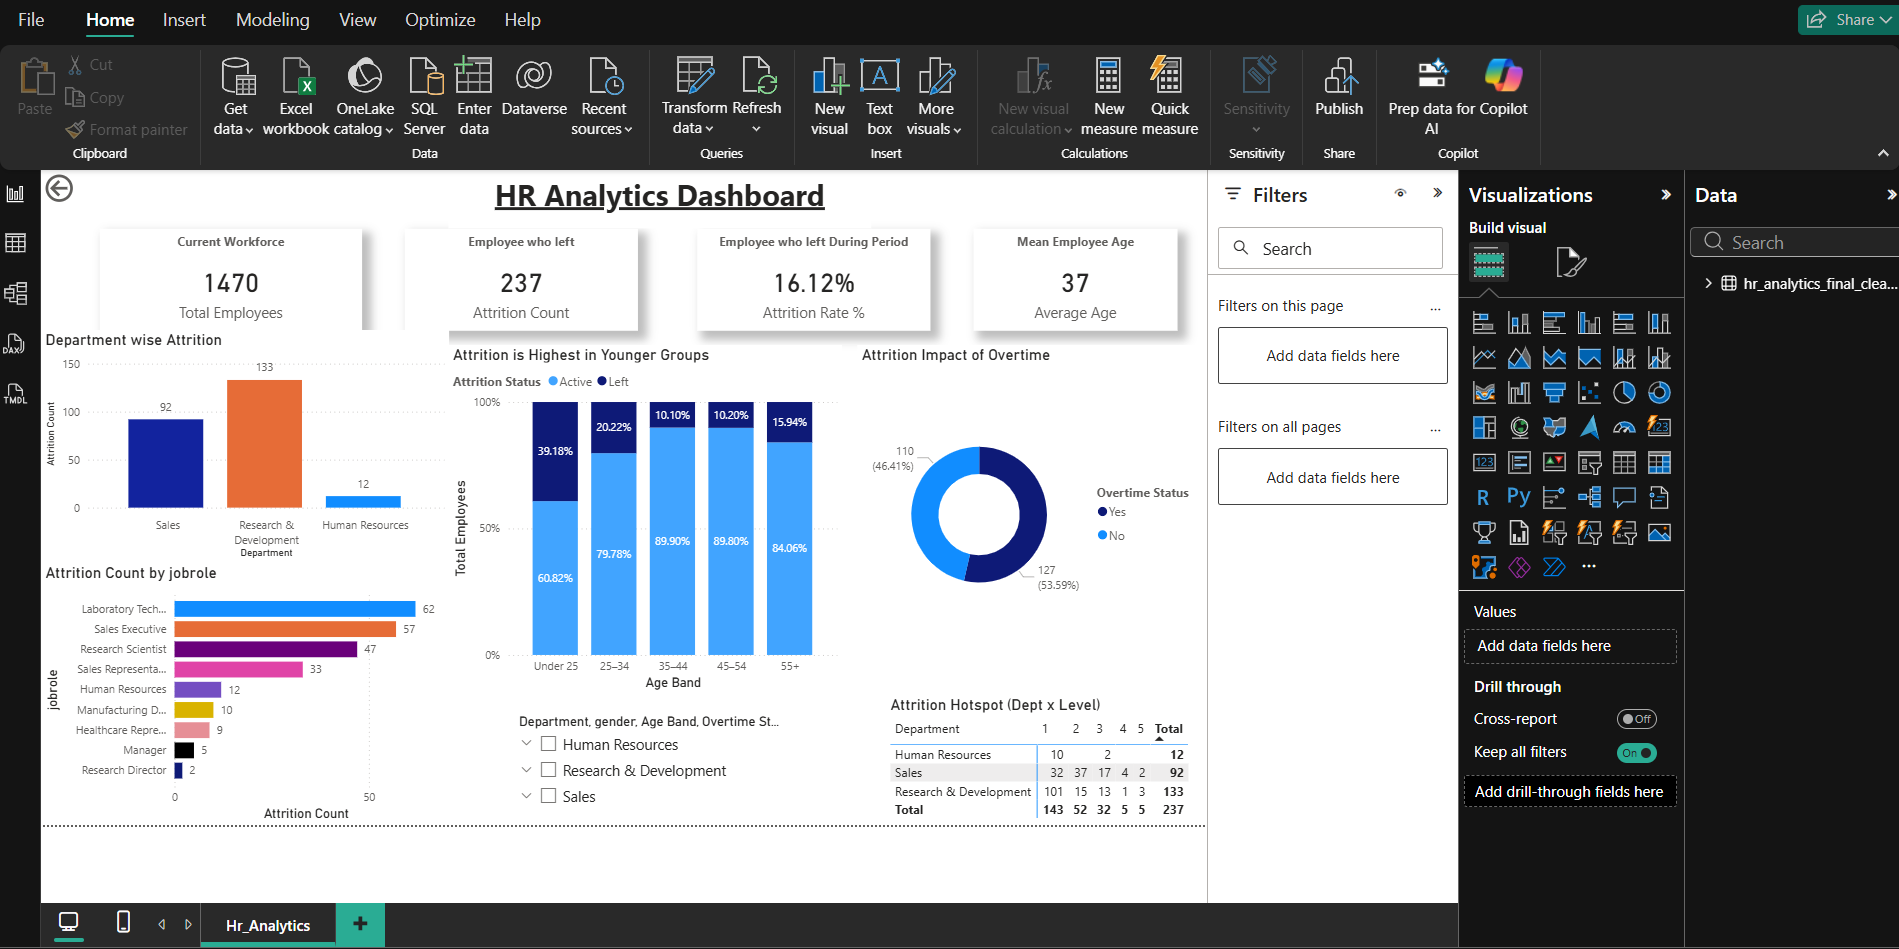

The page's visual inventory and layout, read from the dashboard file:
{"tool":"powerbi","page":{"name":"Hr_Analytics","canvas":[1280,720],"ordinal":0},"visuals":[{"type":"card","fields":{"Values":["hr_analytics_final_cleaned.Total Employees"]},"box":[64,64,288,112],"z":0},{"type":"actionButton","box":[0,0,100,40],"z":1000},{"type":"card","fields":{"Values":["hr_analytics_final_cleaned.Attrition Count"]},"box":[400,64,256,112],"z":2000},{"type":"card","fields":{"Values":["hr_analytics_final_cleaned.Attrition Rate %"]},"box":[720,64,256,112],"z":3000},{"type":"card","fields":{"Values":["hr_analytics_final_cleaned.Average Age"]},"box":[1024,64,224,112],"z":4000},{"type":"hundredPercentStackedColumnChart","title":"Attrition is Highest in Younger and Older Age Groups","fields":{"Series":["hr_analytics_final_cleaned.Attrition Status"],"Y":["hr_analytics_final_cleaned.Total Employees"],"Category":["hr_analytics_final_cleaned.Age Band"]},"box":[448,192,432,384],"z":5000},{"type":"clusteredColumnChart","title":"Department wise Attrition","fields":{"Category":["hr_analytics_final_cleaned.department"],"Y":["hr_analytics_final_cleaned.Attrition Count"]},"box":[0,192,448,256],"z":6000},{"type":"donutChart","title":"Attrition Impact of Overtime","fields":{"Category":["hr_analytics_final_cleaned.Overtime Status"],"Y":["hr_analytics_final_cleaned.Attrition Count"]},"box":[896,192,384,352],"z":7000},{"type":"clusteredBarChart","fields":{"Category":["hr_analytics_final_cleaned.jobrole"],"Y":["hr_analytics_final_cleaned.Attrition Count"]},"box":[0,448,448,272],"z":8000},{"type":"slicer","fields":{"Values":["hr_analytics_final_cleaned.department","hr_analytics_final_cleaned.gender","hr_analytics_final_cleaned.Age Band","hr_analytics_final_cleaned.Overtime Status"]},"box":[512,592,320,128],"z":9000},{"type":"textbox","box":[448,0,464,64],"z":10000},{"type":"pivotTable","title":"Attrition Hotspot (Dept x Level)","fields":{"Rows":["hr_analytics_final_cleaned.department"],"Columns":["hr_analytics_final_cleaned.joblevel"],"Values":["hr_analytics_final_cleaned.Attrition Count"]},"box":[928,576,352,144],"z":11000}]}

Visuals, with their boxes on the page's 1280x720 design canvas (x1, y1, x2, y2). These are canvas units, not pixel positions in the 1899x949 screenshot, which may show the page scaled, cropped or inside an application window:
card - hr_analytics_final_cleaned.Total Employees: x1=64, y1=64, x2=352, y2=176
actionButton: x1=0, y1=0, x2=100, y2=40
card - hr_analytics_final_cleaned.Attrition Count: x1=400, y1=64, x2=656, y2=176
card - hr_analytics_final_cleaned.Attrition Rate %: x1=720, y1=64, x2=976, y2=176
card - hr_analytics_final_cleaned.Average Age: x1=1024, y1=64, x2=1248, y2=176
"Attrition is Highest in Younger and Older Age Groups" hundredPercentStackedColumnChart: x1=448, y1=192, x2=880, y2=576
"Department wise Attrition" clusteredColumnChart: x1=0, y1=192, x2=448, y2=448
"Attrition Impact of Overtime" donutChart: x1=896, y1=192, x2=1280, y2=544
clusteredBarChart - hr_analytics_final_cleaned.jobrole x hr_analytics_final_cleaned.Attrition Count: x1=0, y1=448, x2=448, y2=720
slicer - hr_analytics_final_cleaned.department x hr_analytics_final_cleaned.gender: x1=512, y1=592, x2=832, y2=720
textbox: x1=448, y1=0, x2=912, y2=64
"Attrition Hotspot (Dept x Level)" pivotTable: x1=928, y1=576, x2=1280, y2=720
